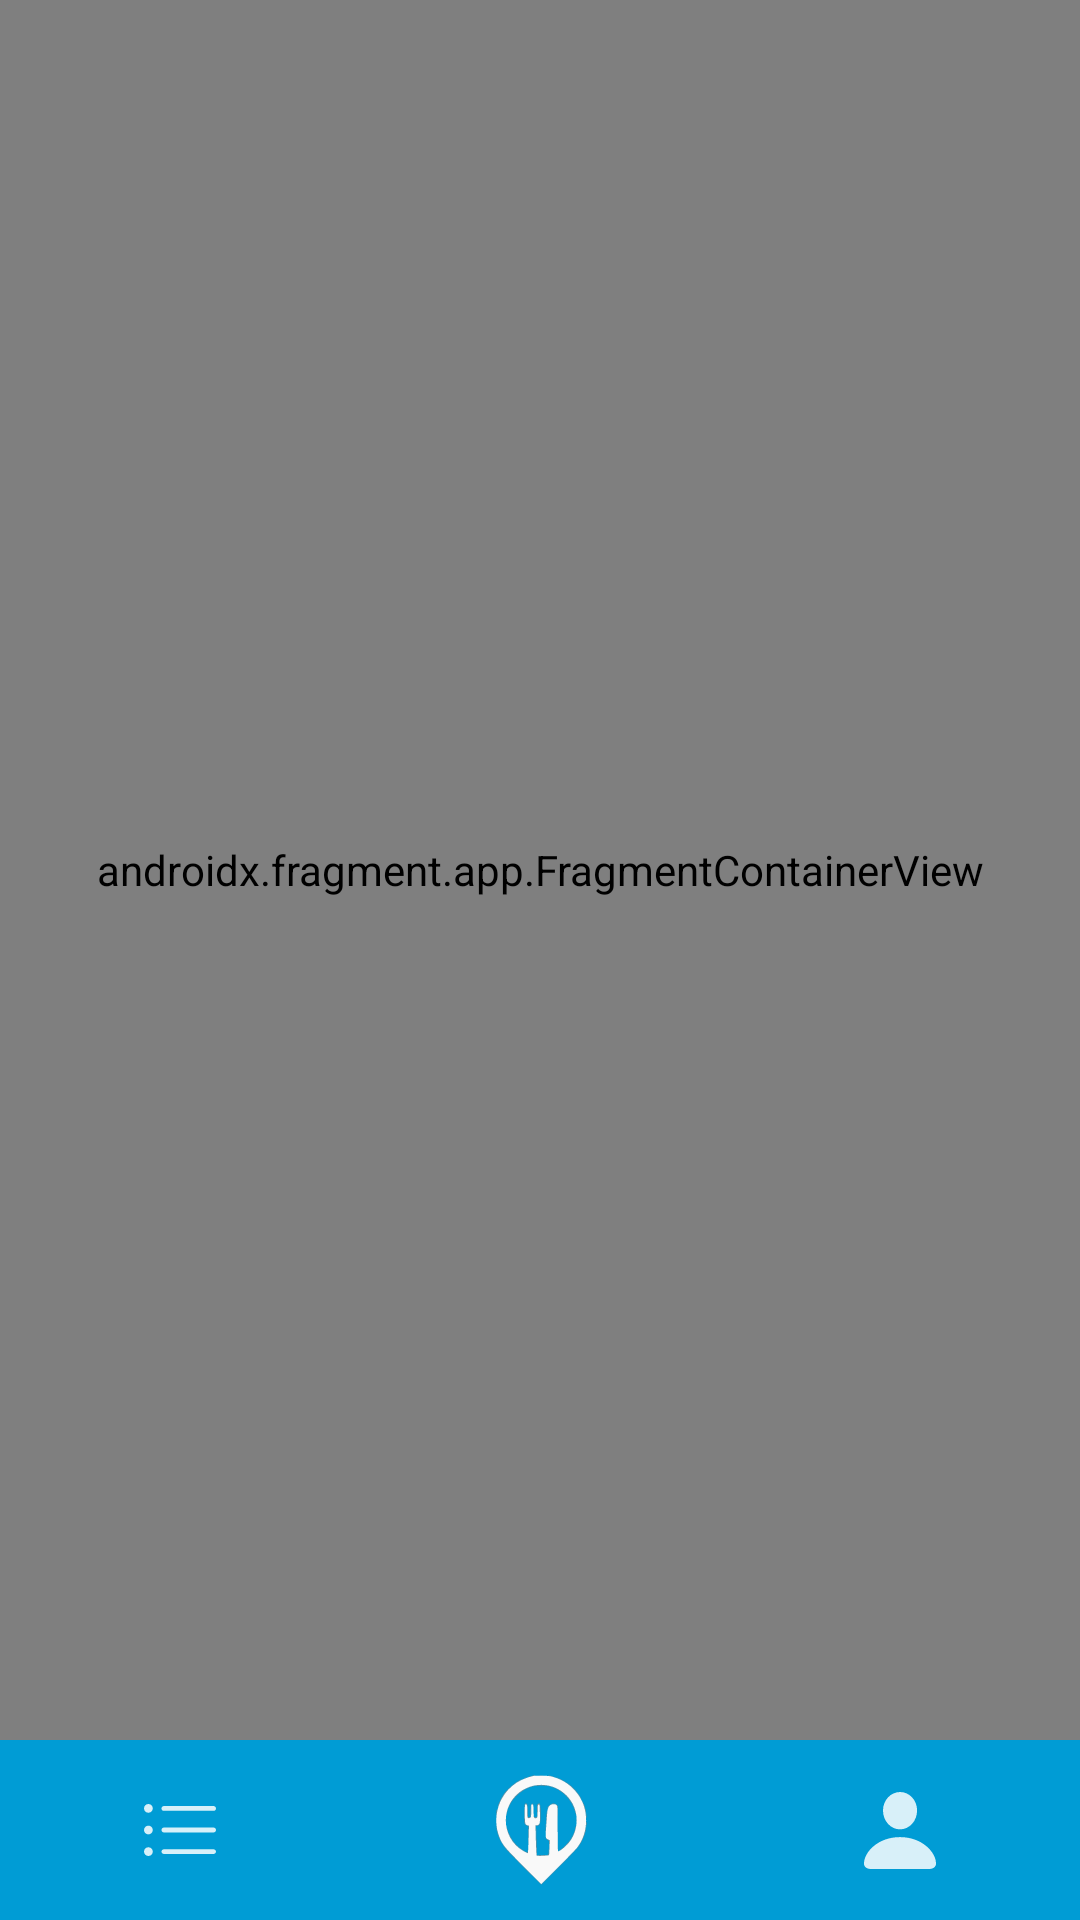

Locate icon controls on the screen. Image size 1080*1920, boxes as bbox(x1, y1, x2, y2).
Menu: bbox(144, 1804, 216, 1856)
Profile: bbox(864, 1792, 936, 1869)
